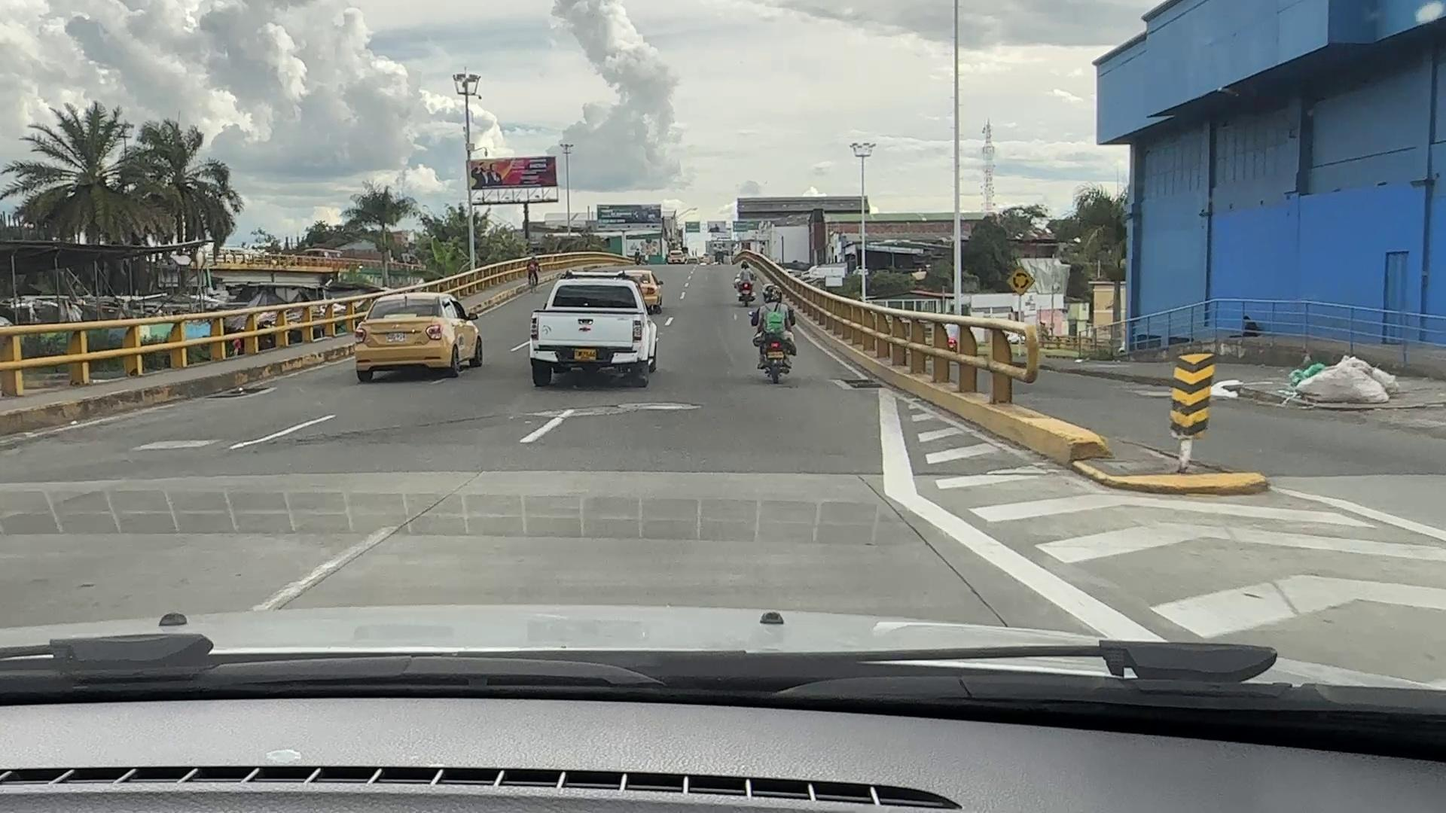bache: (569, 406, 635, 416), (527, 410, 567, 419)
registro: (641, 405, 683, 409)
rejilla: (212, 387, 269, 397), (838, 379, 882, 388)
